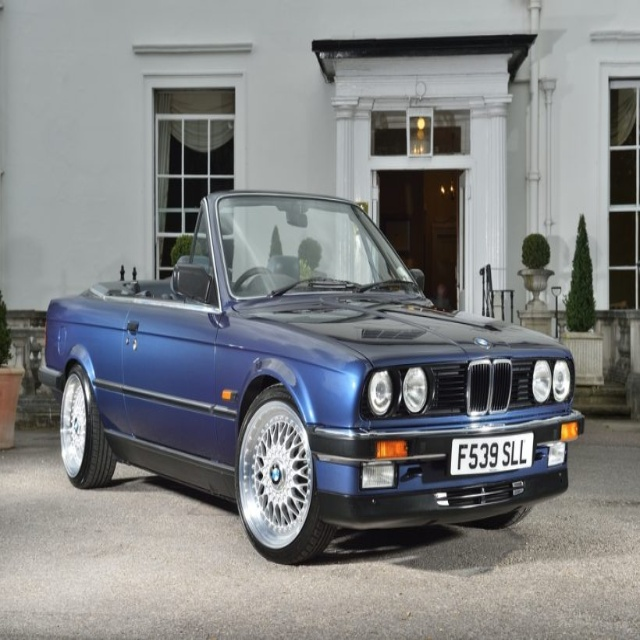Car: (36, 190, 584, 567)
